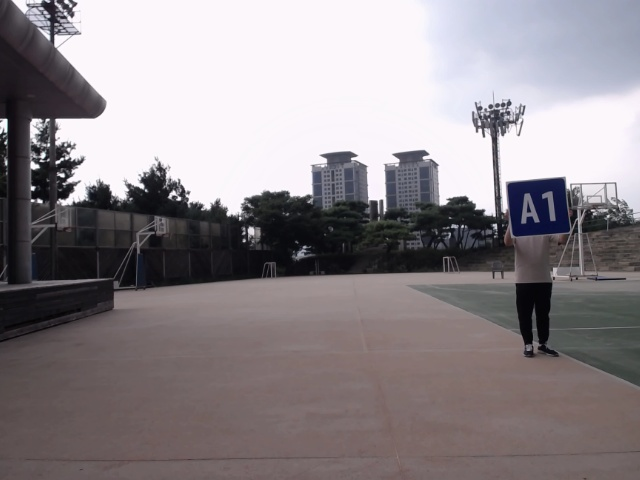delivery_a1: (507, 177, 571, 237)
